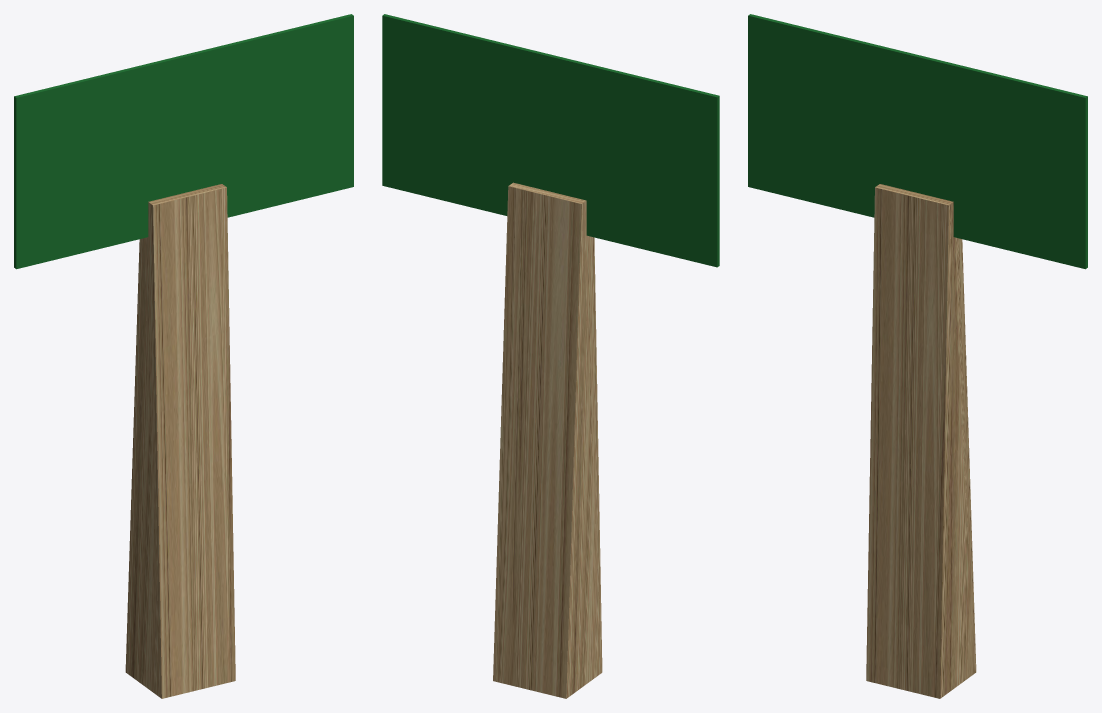
The model's file is Plata.gltf.
3 views of the same model, side by side, from view 1: azimuth 30°, elevation 25°; view 2: azimuth 150°, elevation 25°; view 3: azimuth 330°, elevation 25° (orthographic).
Visible parts, largest first — view 1: Плата пушки; view 2: Плата пушки; view 3: Плата пушки.
Part boxes in pixels (x1,y1,x2,y2): Плата пушки: (14, 14, 353, 698); Плата пушки: (382, 14, 719, 698); Плата пушки: (748, 14, 1087, 698).
Bounding box in the file's own units: 1.37 × 2.41 × 0.2548.
2 materials, 1 textured.
